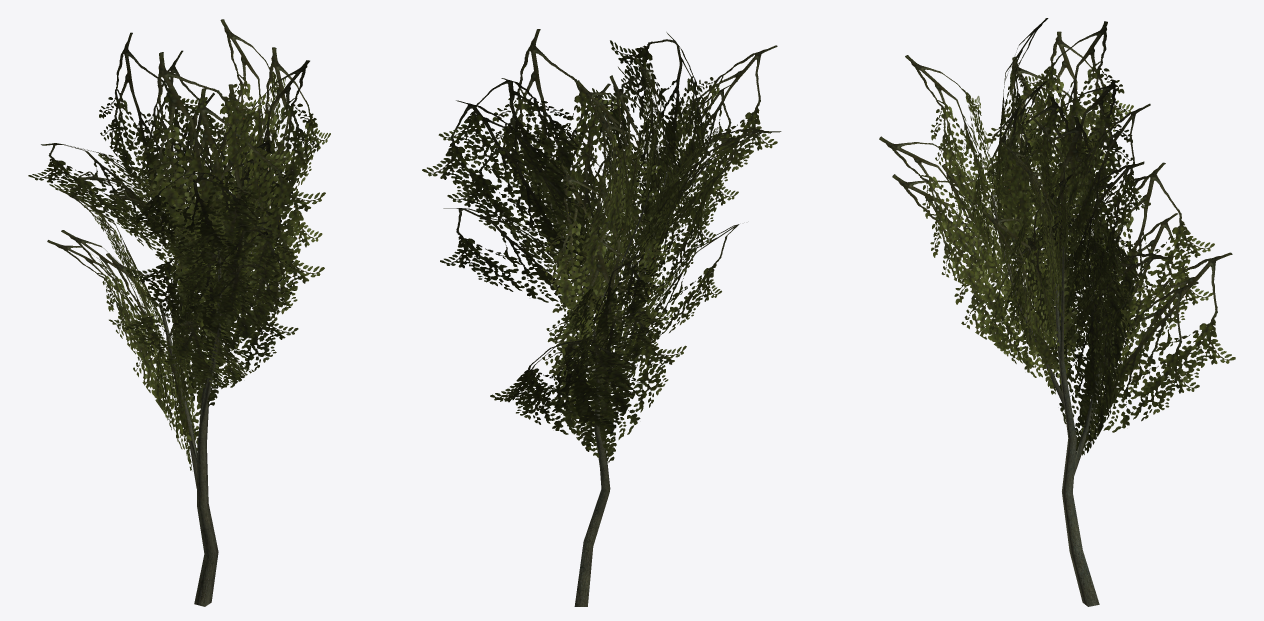
File: bush3.glb
The picture shows the model from 3 angles, left to right: view 1: azimuth 30°, elevation 25°; view 2: azimuth 150°, elevation 25°; view 3: azimuth 270°, elevation 25°; orthographic projection. The views are drawn at different scales.
Visible parts, largest first — view 1: Bush3; view 2: Bush3; view 3: Bush3.
Boxes of the visible parts, x1=… form: Bush3: x1=28, y1=19, x2=330, y2=606; Bush3: x1=422, y1=29, x2=781, y2=606; Bush3: x1=879, y1=18, x2=1235, y2=606.
Bounding box in the file's own units: 6.15 × 10.3 × 6.76.
Materials: 2 (2 with a texture image).
